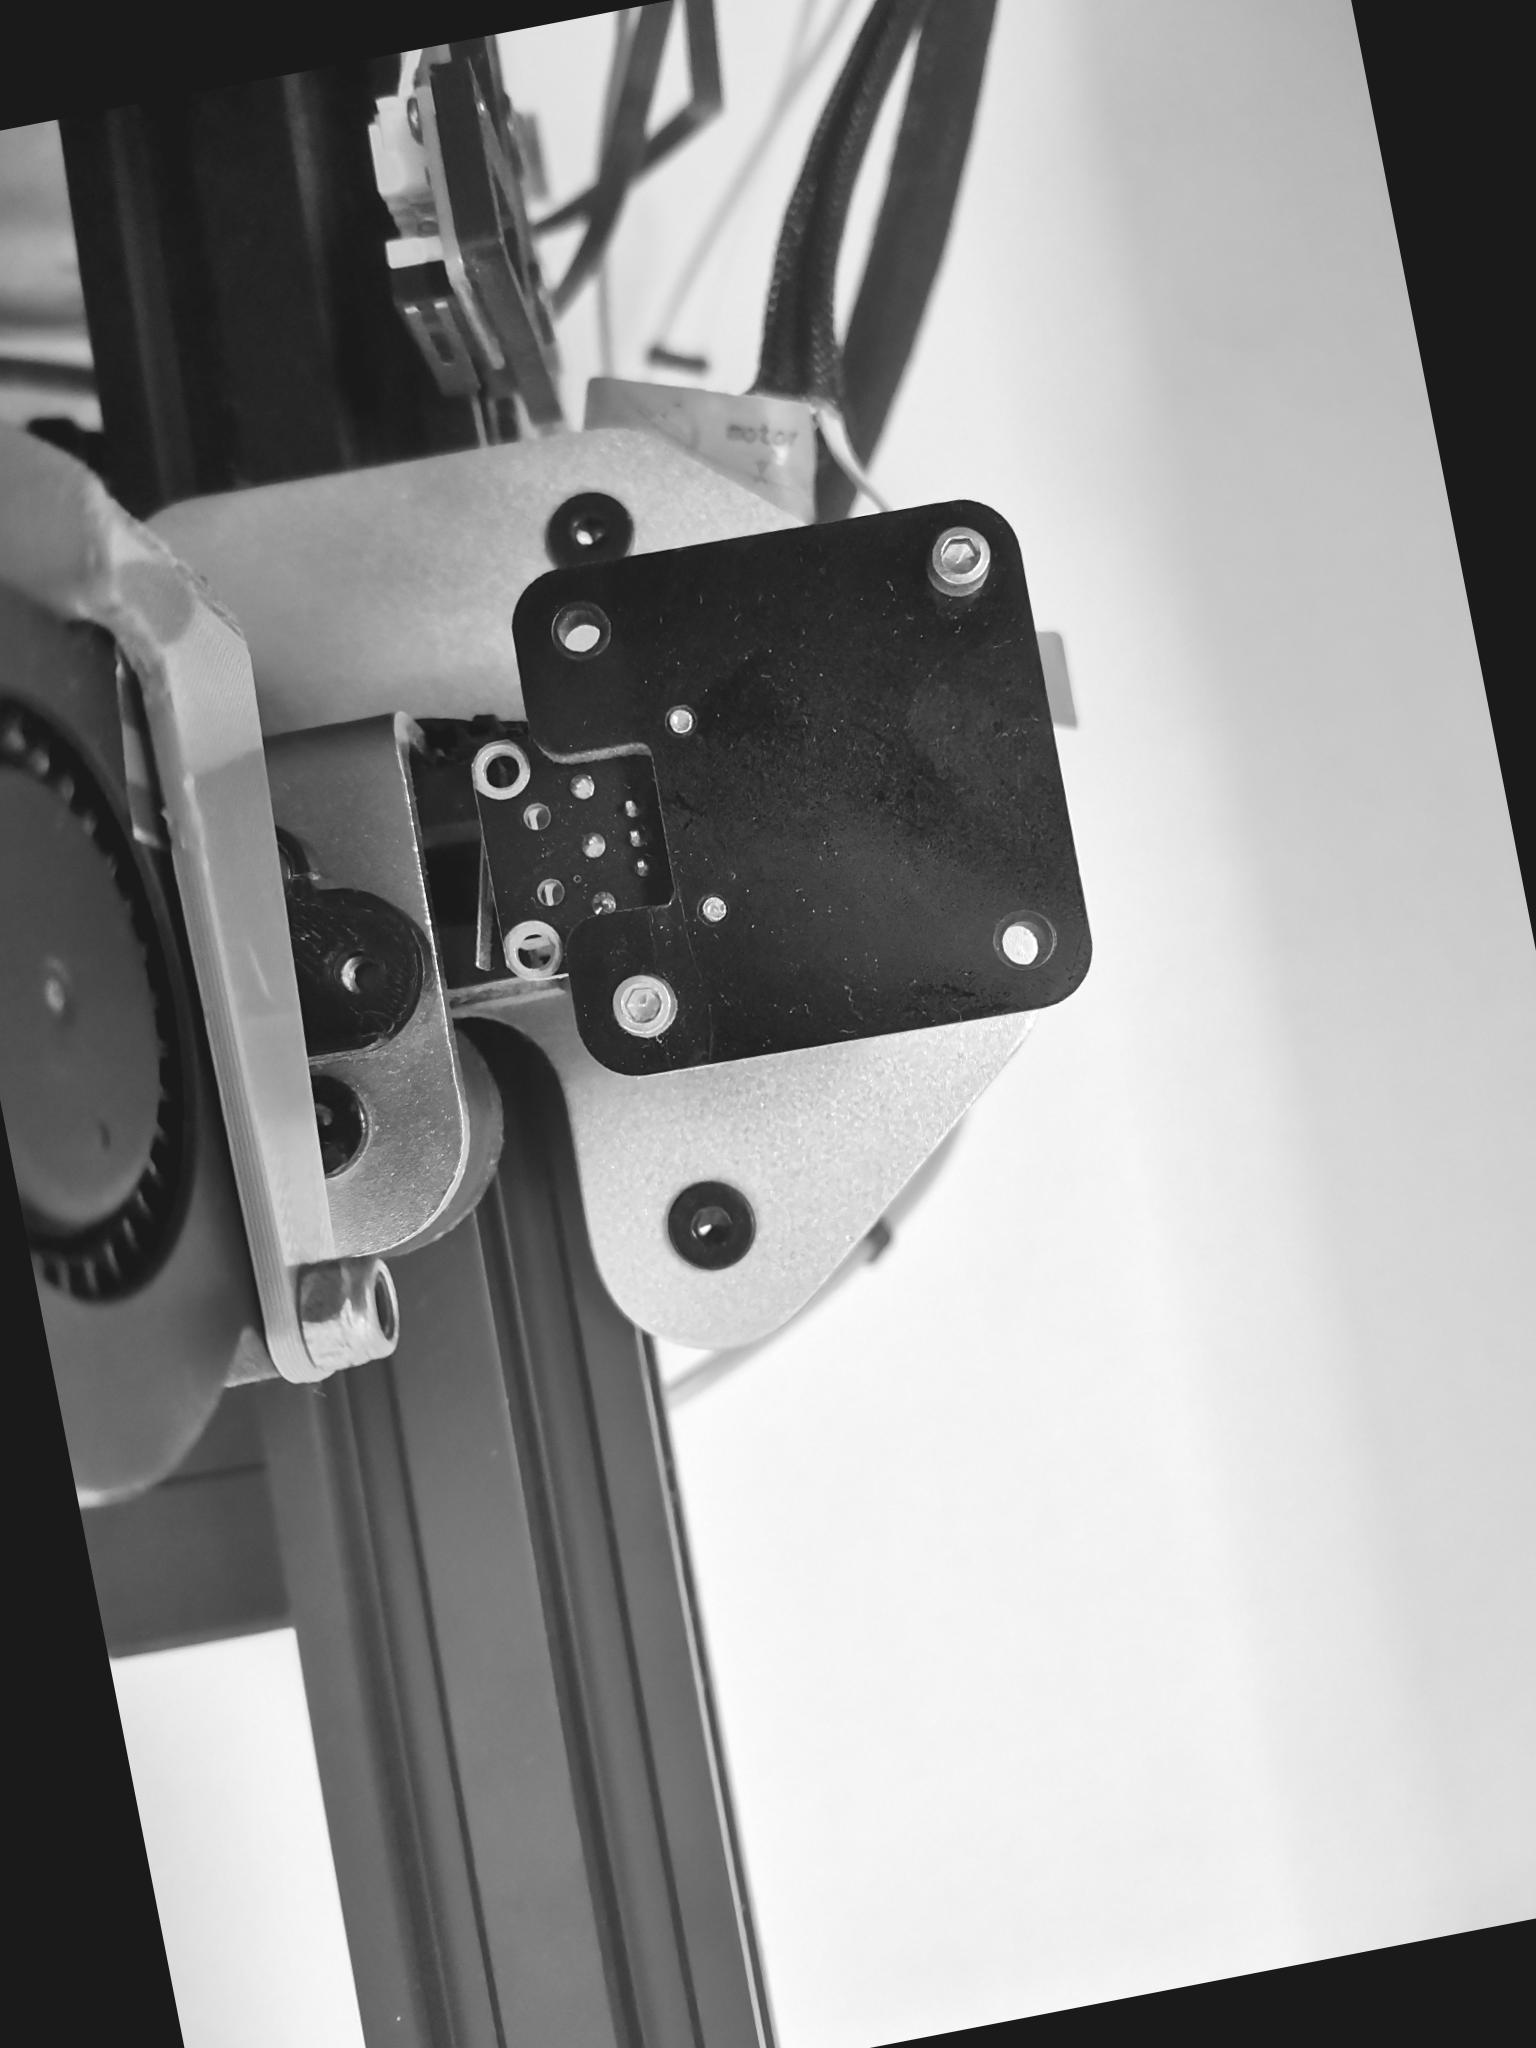allen: (920, 512, 1006, 598), (602, 962, 688, 1046)
